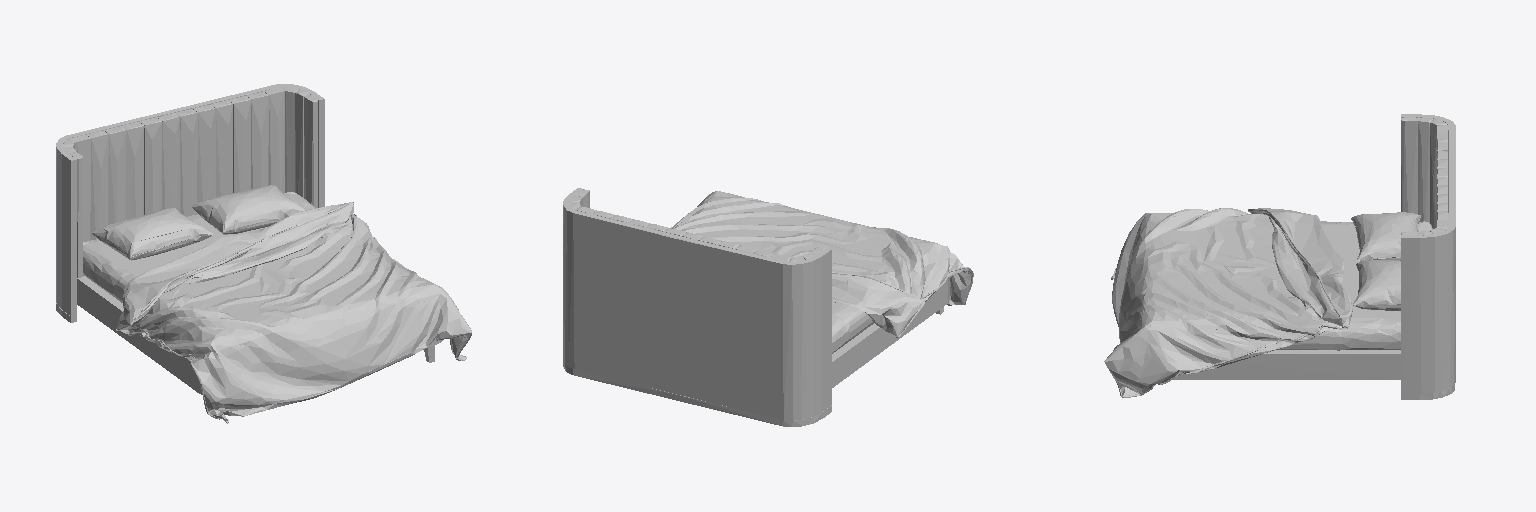
Rendered from Bed Brooklyn N050721.obj.
3 views of the same model, side by side, from view 1: azimuth 30°, elevation 25°; view 2: azimuth 150°, elevation 25°; view 3: azimuth 270°, elevation 25° (orthographic).
Visible parts, largest first — view 1: Bed_Brooklyn_N050721; view 2: Bed_Brooklyn_N050721; view 3: Bed_Brooklyn_N050721.
Boxes of the visible parts, box(x1,y1,x2,y2) form: Bed_Brooklyn_N050721: box(56, 84, 471, 423); Bed_Brooklyn_N050721: box(563, 188, 973, 426); Bed_Brooklyn_N050721: box(1104, 114, 1455, 399).
Bounding box in the file's own units: 88.17 × 48.26 × 94.51.